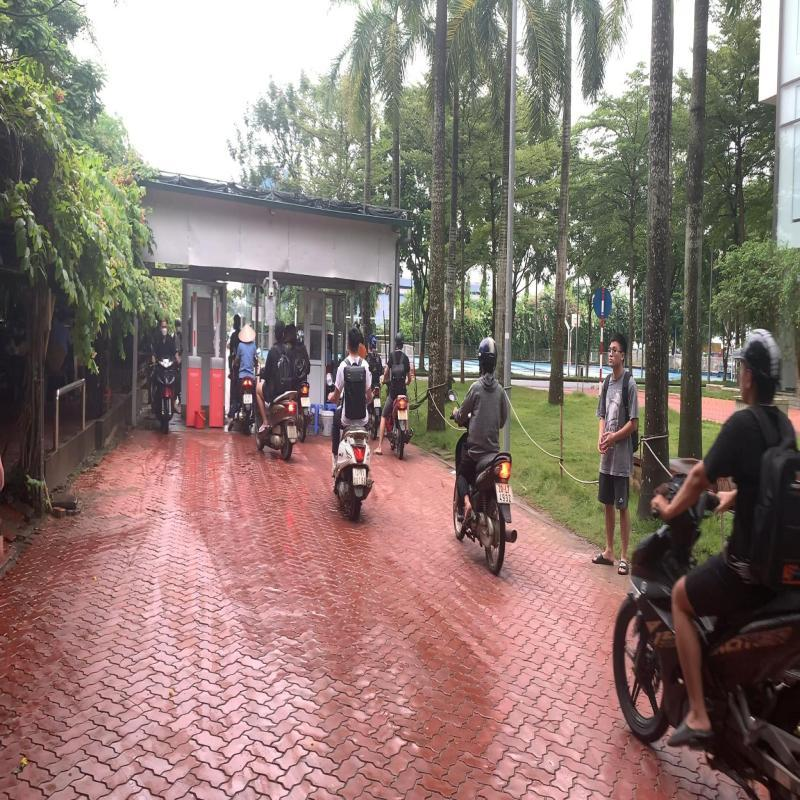licenseplate: (352, 467, 368, 487)
motorcyclist: (324, 323, 376, 524)
nohelmet: (343, 324, 360, 354), (273, 319, 286, 341)
